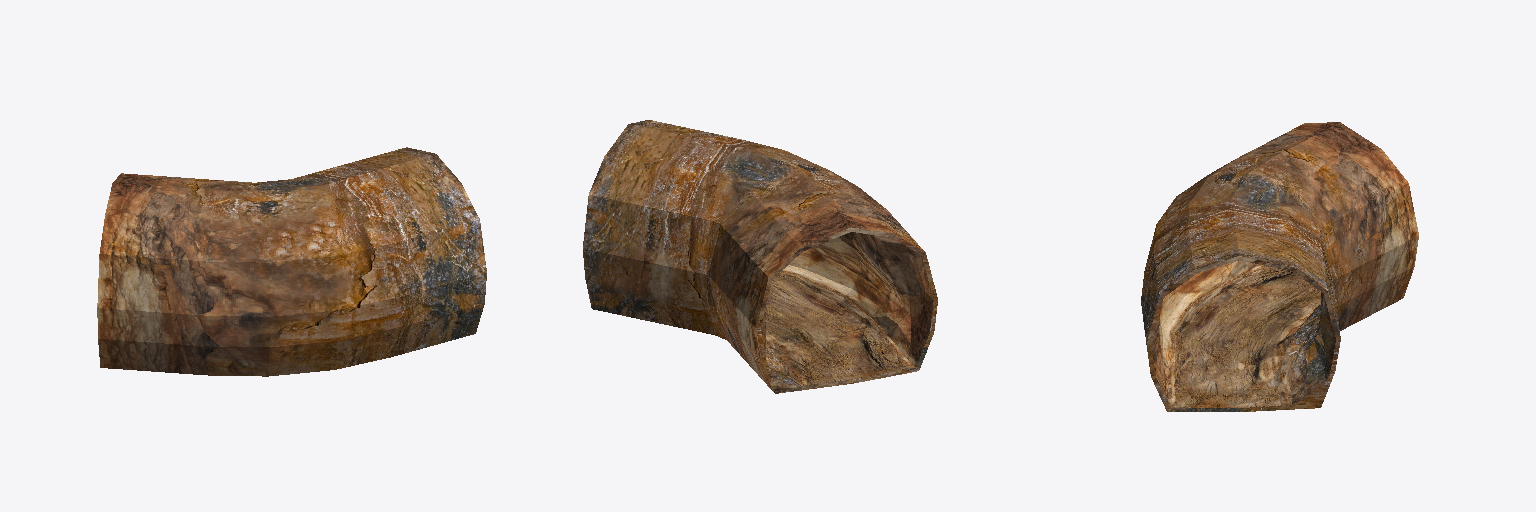
3 renders of one model, left to right at view 1: azimuth 30°, elevation 25°; view 2: azimuth 150°, elevation 25°; view 3: azimuth 270°, elevation 25°, orthographic.
Visible parts, largest first — view 1: corridorA_curve1_cave4; view 2: corridorA_curve1_cave4; view 3: corridorA_curve1_cave4.
Boxes of the visible parts, <box> form: corridorA_curve1_cave4: <box>97,147,486,376</box>; corridorA_curve1_cave4: <box>583,120,937,393</box>; corridorA_curve1_cave4: <box>1141,122,1418,411</box>.
Size of the model in its own units: 580 by 264 by 425.
1 materials, 1 textured.